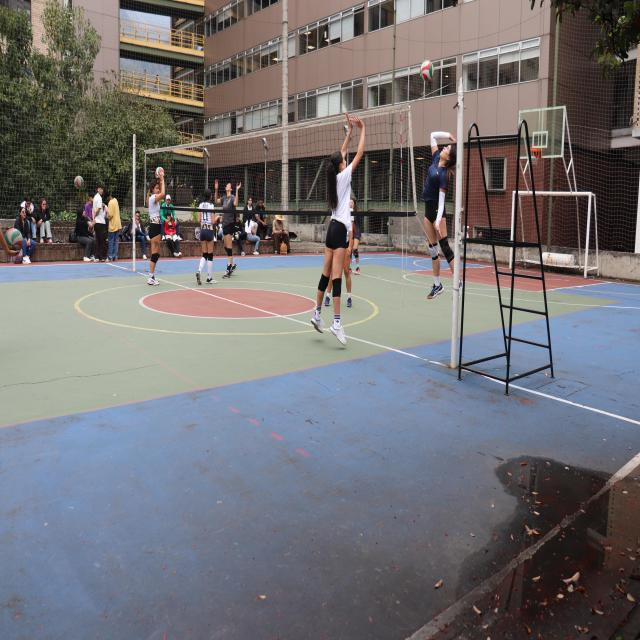volleyball: (4, 228, 23, 251), (420, 60, 434, 82), (74, 175, 84, 189), (155, 166, 164, 180)
